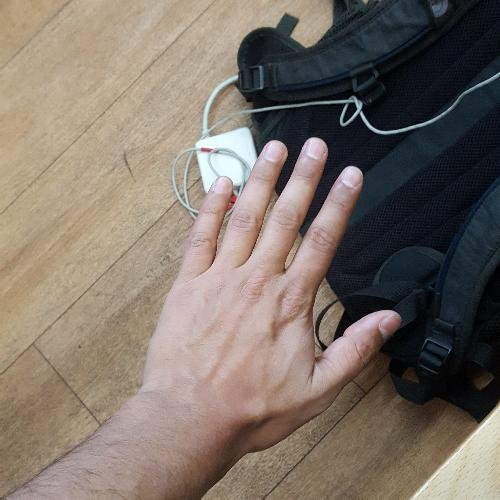paper: (136, 120, 413, 450)
